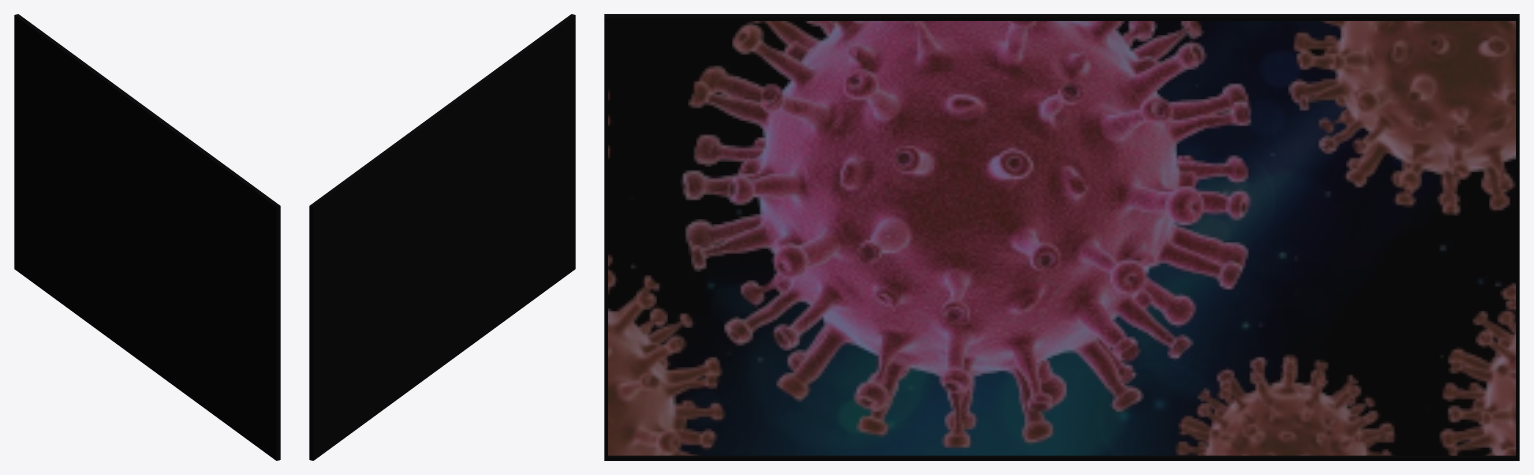
File: PhotoframeD.fbx
3 renders of one model, left to right at view 1: azimuth 30°, elevation 25°; view 2: azimuth 150°, elevation 25°; view 3: azimuth 270°, elevation 25°, orthographic. The views are drawn at different scales.
Visible parts, largest first — view 1: PhotoframeD; view 2: PhotoframeD; view 3: PhotoframeD.
Boxes of the visible parts, x1,y1,x2,y2 form: PhotoframeD: (14, 14, 280, 460); PhotoframeD: (309, 14, 575, 460); PhotoframeD: (604, 14, 1519, 460).
Size of the model in its own units: 3.82 by 221 by 414.
1 material, 1 textured.
